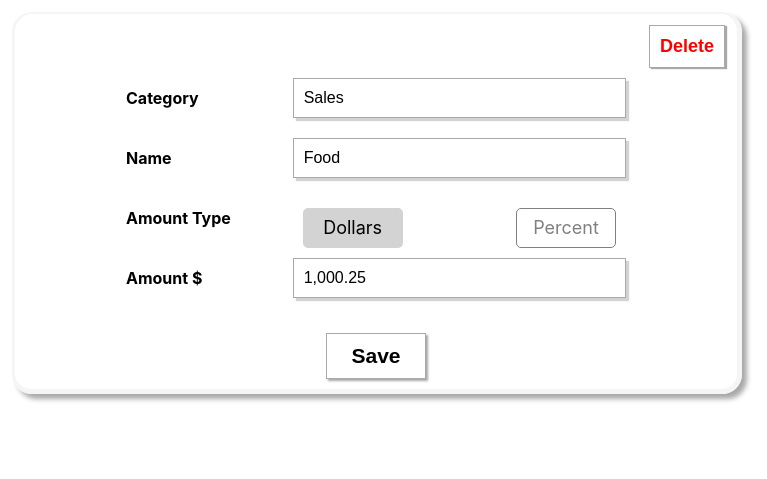
Test: LineItemForm, AmountType › if user changes value from dollar to percent, register new value
Click the radio button labelled "Percent".
click(516, 208)  # box [516, 208, 616, 248]
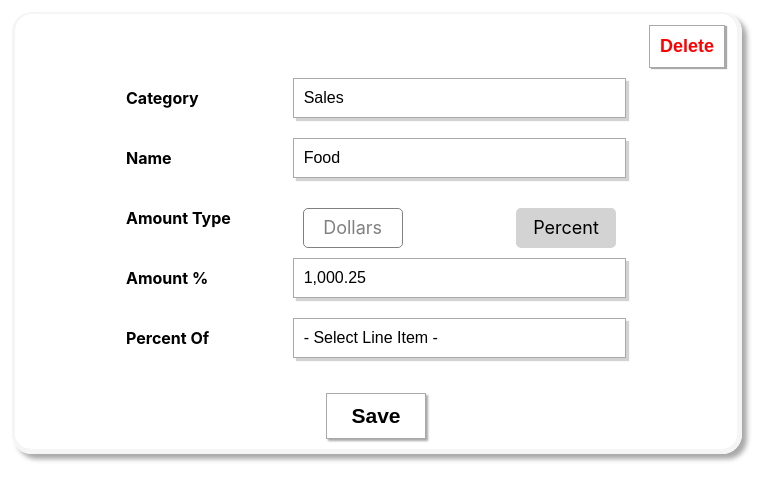
expect the radio button labelled "Percent" is checked: met, box [516, 208, 616, 248]
expect the radio button with id "dollars" is not checked: met, box [303, 208, 403, 248]
